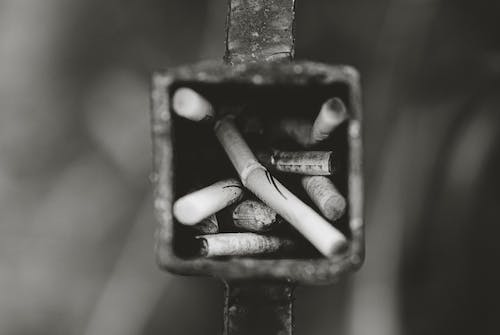cigarette: (240, 161, 349, 260), (170, 174, 248, 227), (212, 118, 268, 188), (279, 94, 349, 146), (191, 233, 325, 258), (298, 173, 347, 223), (256, 147, 337, 177), (171, 86, 218, 128)
